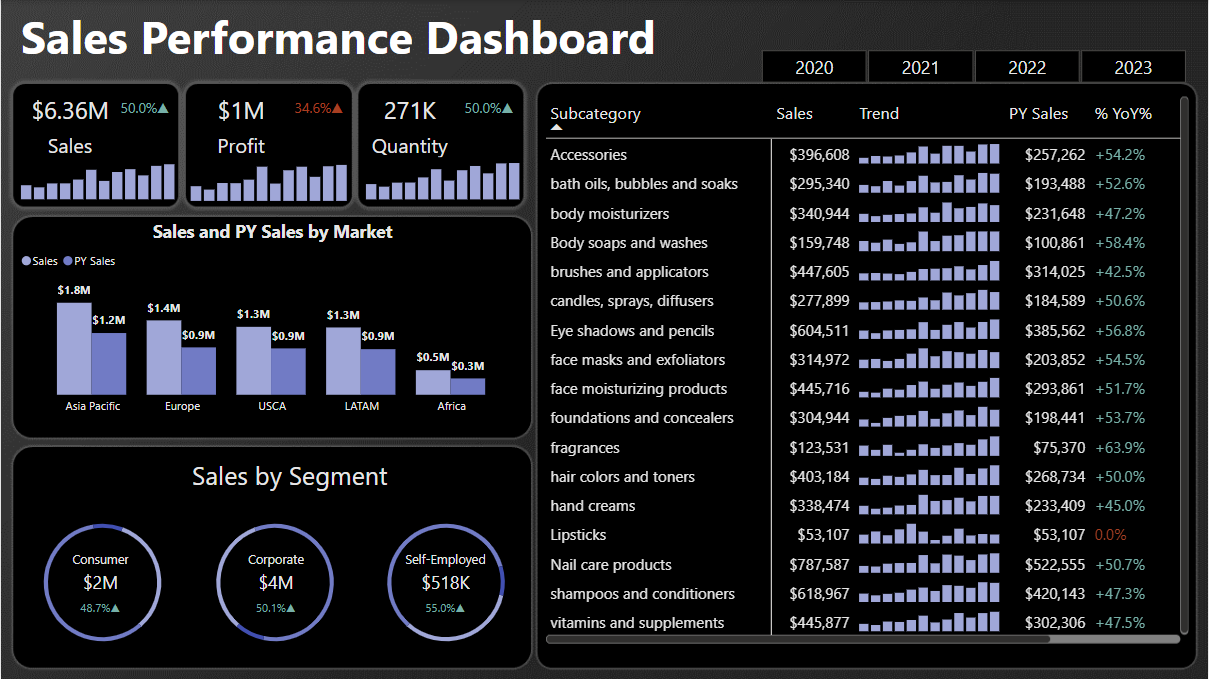

This screenshot's page, from the dashboard's own definition file:
{"tool":"powerbi","page":{"name":"Page 1","canvas":[1280,720],"ordinal":0},"visuals":[{"type":"slicer","fields":{"Values":["Date Table.Year"]},"box":[781,46.1,499.5,44.5],"z":0},{"type":"card","fields":{"Values":["Measures Table.Sales"]},"box":[15.9,90.7,114.5,81.1],"z":1000},{"type":"card","fields":{"Values":["Measures Table.Profit"]},"box":[197.2,90.7,114.5,81.1],"z":2000},{"type":"card","fields":{"Values":["Measures Table.Quantity"]},"box":[375.4,90.7,116.1,81.1],"z":3000},{"type":"card","fields":{"Values":["Measures Table.% YoY Sales"]},"box":[109.6,103.9,85,47.2],"z":4000},{"type":"card","fields":{"Values":["Measures Table.% YoY Profit"]},"box":[294.8,103.9,85,47.2],"z":5000},{"type":"card","fields":{"Values":["Measures Table.% YoY Quantity"]},"box":[461.1,103.9,111.5,47.2],"z":6000},{"type":"clusteredColumnChart","fields":{"Category":["Date Table.Monthnumber"],"Y":["Measures Table.Sales"]},"box":[0,151.2,232.4,66],"z":7000},{"type":"clusteredColumnChart","fields":{"Category":["Date Table.Monthnumber"],"Y":["Measures Table.Profit"]},"box":[179.5,153.1,236.2,66.1],"z":8000},{"type":"clusteredColumnChart","fields":{"Category":["Date Table.Monthnumber"],"Y":["Measures Table.Quantity"]},"box":[366.6,151.2,232.4,66.1],"z":9000},{"type":"clusteredColumnChart","fields":{"Category":["E_Commerce Sales data.Market"],"Y":["Measures Table.Sales","Measures Table.PY Sales"]},"box":[15.9,232.2,544,216.3],"z":10000},{"type":"donutChart","fields":{"Y":["Measures Table.Sales"],"Series":["E_Commerce Sales data.Segment"]},"box":[20.8,534.8,173.9,166.3],"z":11000},{"type":"donutChart","fields":{"Y":["Measures Table.Sales"],"Series":["E_Commerce Sales data.Segment"]},"box":[203.2,534.8,173.9,166.3],"z":12000},{"type":"donutChart","fields":{"Y":["Measures Table.Sales"],"Series":["E_Commerce Sales data.Segment"]},"box":[385.5,534.8,173.9,166.3],"z":13000},{"type":"cardVisual","fields":{"Data":["Measures Table.Sales"]},"box":[15.1,549.9,179.5,136.1],"z":14000},{"type":"cardVisual","fields":{"Data":["Measures Table.Sales"]},"box":[202,550.4,179.7,136.8],"z":15000},{"type":"cardVisual","fields":{"Data":["Measures Table.Sales"]},"box":[381.7,550.4,179.7,136.8],"z":16000},{"type":"textbox","box":[178.1,480.4,256.1,54.1],"z":17000},{"type":"pivotTable","fields":{"Rows":["E_Commerce Sales data.Subcategory"],"Values":["Measures Table.Sales","SparklineData(Measures Table.Sales_[Date Table.Monthnumber])","Measures Table.PY Sales","Measures Table.% YoY%"]},"box":[572.6,97,691.9,590.1],"z":18000},{"type":"textbox","box":[15.9,0,699.9,79.5],"z":19000}]}

Visuals, with their boxes in screenshot pixels (x1, y1, x2, y2), scaled from the page's 1280x720 canvas onto the 1209x679 screenshot:
slicer - Date Table.Year: locate(738, 43, 1208, 85)
card - Measures Table.Sales: locate(15, 86, 123, 162)
card - Measures Table.Profit: locate(186, 86, 294, 162)
card - Measures Table.Quantity: locate(355, 86, 464, 162)
card - Measures Table.% YoY Sales: locate(104, 98, 184, 142)
card - Measures Table.% YoY Profit: locate(278, 98, 359, 142)
card - Measures Table.% YoY Quantity: locate(436, 98, 541, 142)
clusteredColumnChart - Date Table.Monthnumber x Measures Table.Sales: locate(0, 143, 220, 205)
clusteredColumnChart - Date Table.Monthnumber x Measures Table.Profit: locate(170, 144, 393, 207)
clusteredColumnChart - Date Table.Monthnumber x Measures Table.Quantity: locate(346, 143, 566, 205)
clusteredColumnChart - E_Commerce Sales data.Market x Measures Table.Sales: locate(15, 219, 529, 423)
donutChart - Measures Table.Sales x E_Commerce Sales data.Segment: locate(20, 504, 184, 661)
donutChart - Measures Table.Sales x E_Commerce Sales data.Segment: locate(192, 504, 356, 661)
donutChart - Measures Table.Sales x E_Commerce Sales data.Segment: locate(364, 504, 528, 661)
cardVisual - Measures Table.Sales: locate(14, 519, 184, 647)
cardVisual - Measures Table.Sales: locate(191, 519, 361, 648)
cardVisual - Measures Table.Sales: locate(361, 519, 530, 648)
textbox: locate(168, 453, 410, 504)
pivotTable - E_Commerce Sales data.Subcategory x Measures Table.Sales: locate(541, 91, 1194, 648)
textbox: locate(15, 0, 676, 75)
